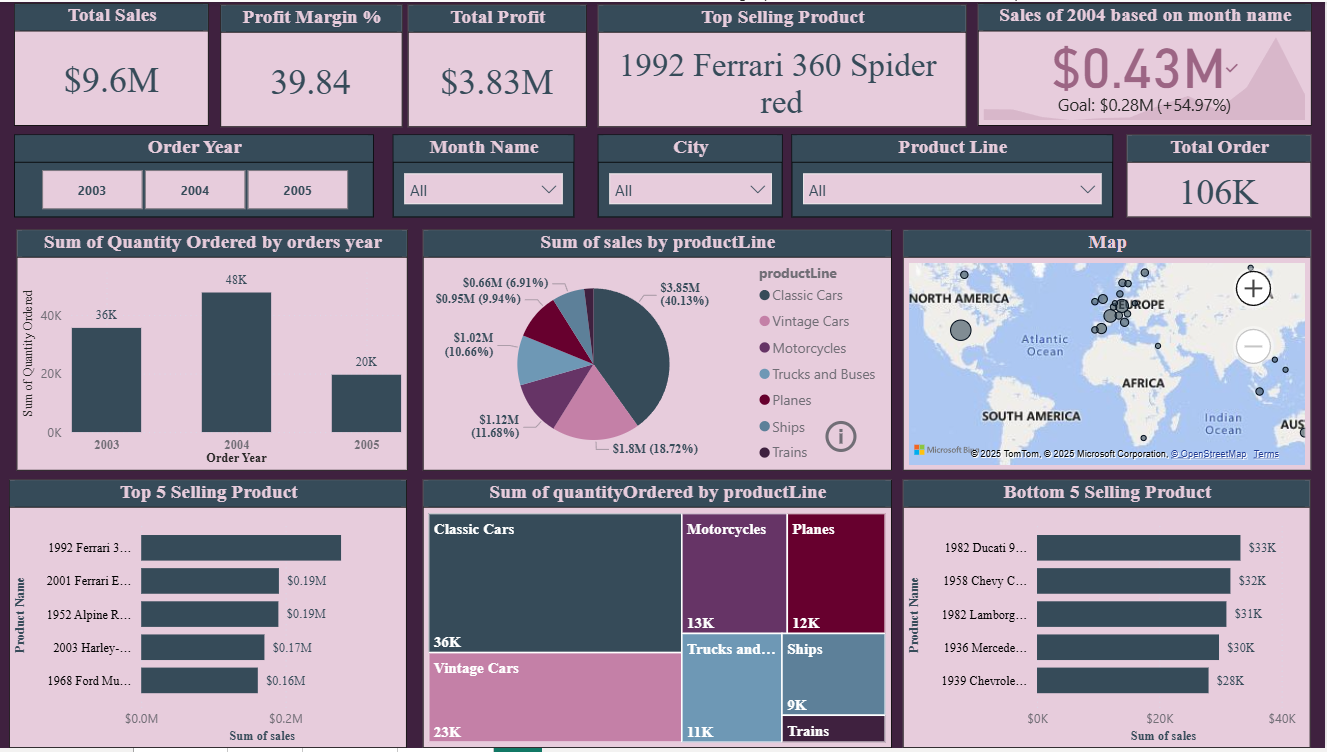

What the dashboard file says about the page in this screenshot:
{"tool":"powerbi","page":{"name":"Page 1","canvas":[1280,720],"ordinal":0},"visuals":[{"type":"card","title":"Total Profit","fields":{"Values":["order detail.total_profit"]},"box":[394.5,2.4,172.5,118.2],"z":0},{"type":"card","title":"Top Selling Product","fields":{"Values":["order detail.Most Ordered Product"]},"box":[577.9,2.4,355.9,118.2],"z":1000},{"type":"barChart","title":"Top 5 Selling Product","fields":{"Y":["Sum(order detail.sales)"],"Category":["products.productName"]},"box":[9.6,461.1,384.2,259.3],"z":2000},{"type":"pieChart","fields":{"Y":["Sum(order detail.sales)"],"Category":["productlines.productLine"]},"box":[409,219.6,452.4,232.8],"z":3000},{"type":"slicer","title":"Order Year","fields":{"Values":["orders.orders_year"]},"box":[14.5,127.9,347.5,79.6],"z":4000},{"type":"card","title":"Total Order","fields":{"Values":["Sum(order detail.quantityOrdered)"]},"box":[1088.2,127.9,178.6,79.6],"z":5000},{"type":"kpi","title":"Sales of 2004 based on month name","fields":{"Indicator":["order detail.sales_2004"],"Goal":["order detail.sales_2003"],"TrendLine":["orders.Month Name"]},"box":[944.6,1.2,322.1,118.2],"z":6000},{"type":"slicer","title":"Month Name","fields":{"Values":["orders.Month Name"]},"box":[380,127.9,174.9,79.6],"z":7000},{"type":"map","title":"Map","fields":{"Size":["CountNonNull(customers.customerNumber)"],"Category":["customers.country"]},"box":[872.3,219.6,394.5,232.8],"z":8000},{"type":"treemap","fields":{"Group":["productlines.productLine"],"Values":["Sum(order detail.quantityOrdered)"]},"box":[409,460.9,452.4,259.4],"z":9000},{"type":"clusteredColumnChart","title":"Sum of Quantity Ordered by orders year","fields":{"Category":["orders.orders_year"],"Y":["Sum(order detail.quantityOrdered)"]},"box":[16.9,219.6,377.6,232.8],"z":10000},{"type":"card","title":" Profit Margin %","fields":{"Values":["classic_models_dataset.profit_margin_percent"]},"box":[213.5,2.4,176.1,118.2],"z":11000},{"type":"card","title":"Total Sales","fields":{"Values":["Sum(order detail.sales)"]},"box":[14.5,1.2,188.2,118.2],"z":12000},{"type":"slicer","title":"City","fields":{"Values":["offices.city"]},"box":[577.9,127.9,178.6,79.6],"z":13000},{"type":"slicer","title":"Product Line","fields":{"Values":["productlines.productLine"]},"box":[764.9,127.9,310.1,79.6],"z":14000},{"type":"barChart","title":"Bottom 5 Selling Product","fields":{"Y":["Sum(order detail.sales)"],"Category":["products.productName"]},"box":[872.7,461.1,393.8,259.3],"z":15000},{"type":"actionButton","box":[793,399.3,48.7,40.3],"z":16000}]}

Visuals, with their boxes in screenshot pixels (x1, y1, x2, y2), scaled from the page's 1280x720 canvas onto the 1327x752 screenshot:
"Total Profit" card: crop(409, 3, 588, 126)
"Top Selling Product" card: crop(599, 3, 968, 126)
"Top 5 Selling Product" barChart: crop(10, 482, 408, 751)
pieChart - Sum(order detail.sales) x productlines.productLine: crop(424, 229, 893, 473)
"Order Year" slicer: crop(15, 134, 375, 217)
"Total Order" card: crop(1128, 134, 1313, 217)
"Sales of 2004 based on month name" kpi: crop(979, 1, 1313, 125)
"Month Name" slicer: crop(394, 134, 575, 217)
"Map" map: crop(904, 229, 1313, 473)
treemap - productlines.productLine x Sum(order detail.quantityOrdered): crop(424, 481, 893, 751)
"Sum of Quantity Ordered by orders year" clusteredColumnChart: crop(18, 229, 409, 473)
" Profit Margin %" card: crop(221, 3, 404, 126)
"Total Sales" card: crop(15, 1, 210, 125)
"City" slicer: crop(599, 134, 784, 217)
"Product Line" slicer: crop(793, 134, 1114, 217)
"Bottom 5 Selling Product" barChart: crop(905, 482, 1313, 751)
actionButton: crop(822, 417, 873, 459)
